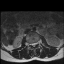CCS_stenosis: (32, 41, 34, 48)
LFS_normal: (36, 39, 38, 46)
LLS_normal: (34, 40, 36, 47)
RFS_normal: (28, 41, 30, 47)
RLS_normal: (30, 41, 32, 47)
